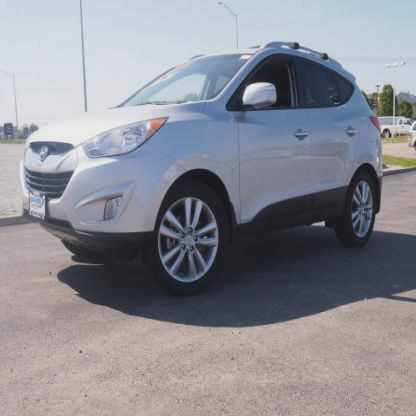Vehicle: (16, 36, 388, 294)
